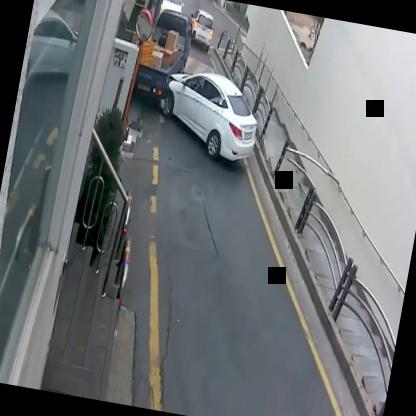accident: (131, 1, 282, 174)
